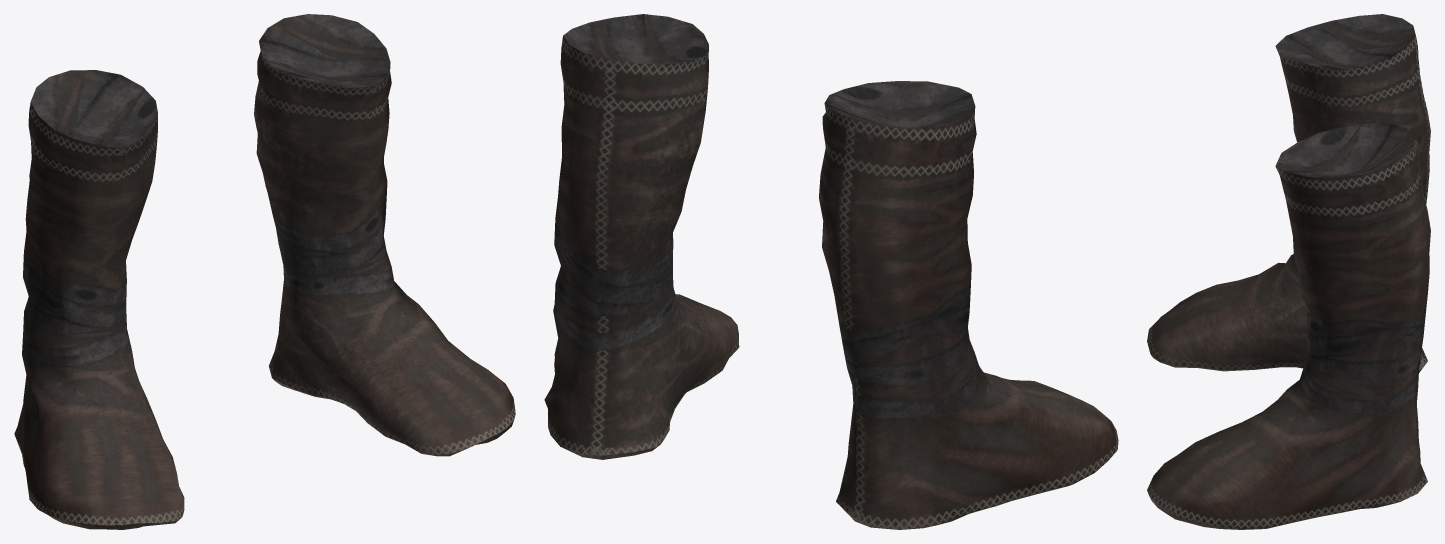
The model's file is sk_gb_uruk_boots_light_a.fbx.
3 views of the same model, side by side, from view 1: azimuth 30°, elevation 25°; view 2: azimuth 150°, elevation 25°; view 3: azimuth 270°, elevation 25° (orthographic). The views are drawn at different scales.
Parts seen in each view (by area): view 1: sk_gb_uruk_boots_light_a; view 2: sk_gb_uruk_boots_light_a; view 3: sk_gb_uruk_boots_light_a.
Part boxes in pixels (bbox=[...]): sk_gb_uruk_boots_light_a: bbox=[14, 14, 515, 529]; sk_gb_uruk_boots_light_a: bbox=[544, 14, 1118, 529]; sk_gb_uruk_boots_light_a: bbox=[1147, 14, 1430, 529].
Bounding box in the file's own units: 0.5641 × 0.3087 × 0.4095.
Materials: 1 (1 with a texture image).
